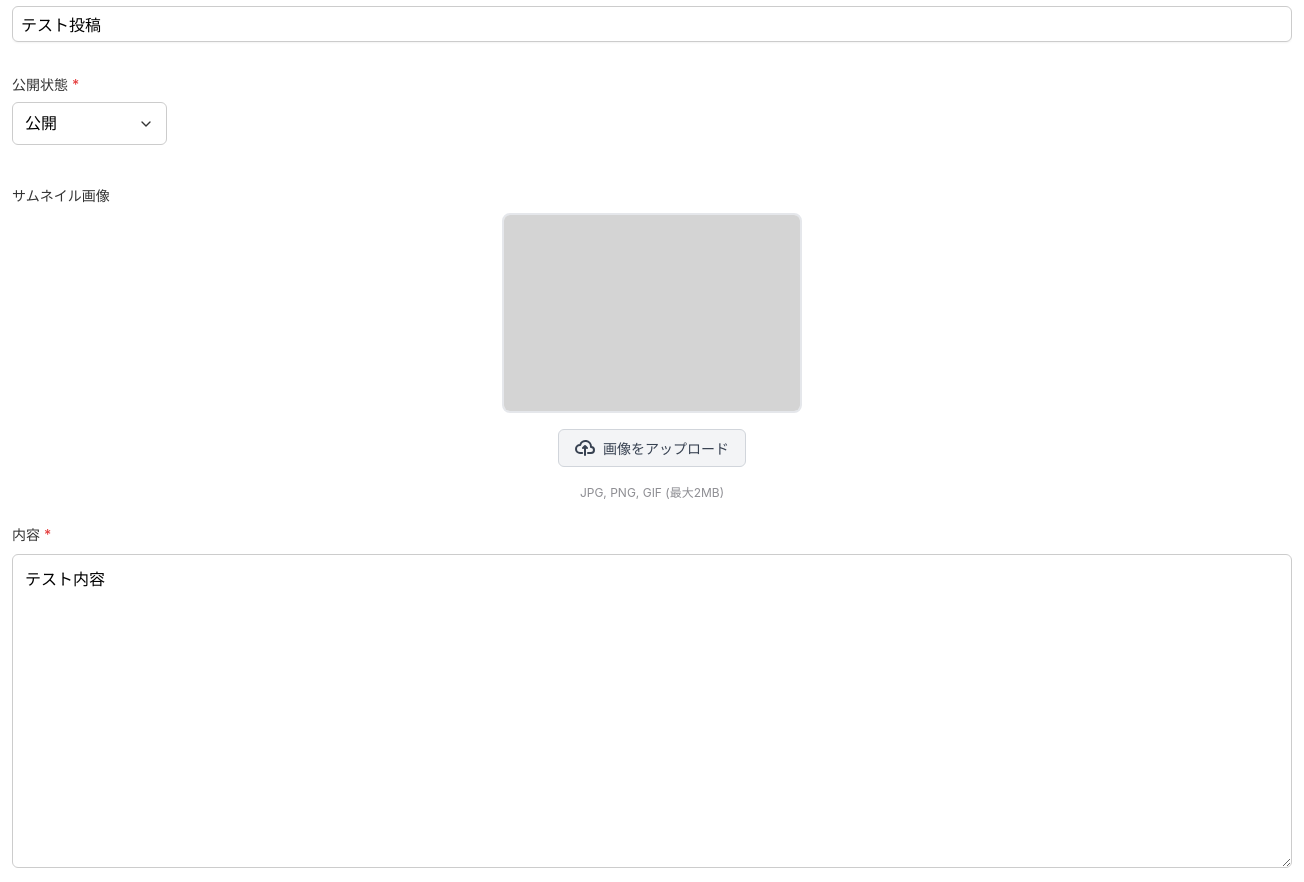
Test: PostForm › 内容が空の場合、エラーメッセージが表示されること
Clear the text box with test id "content-textarea" at [652, 711], box [12, 554, 1292, 868]
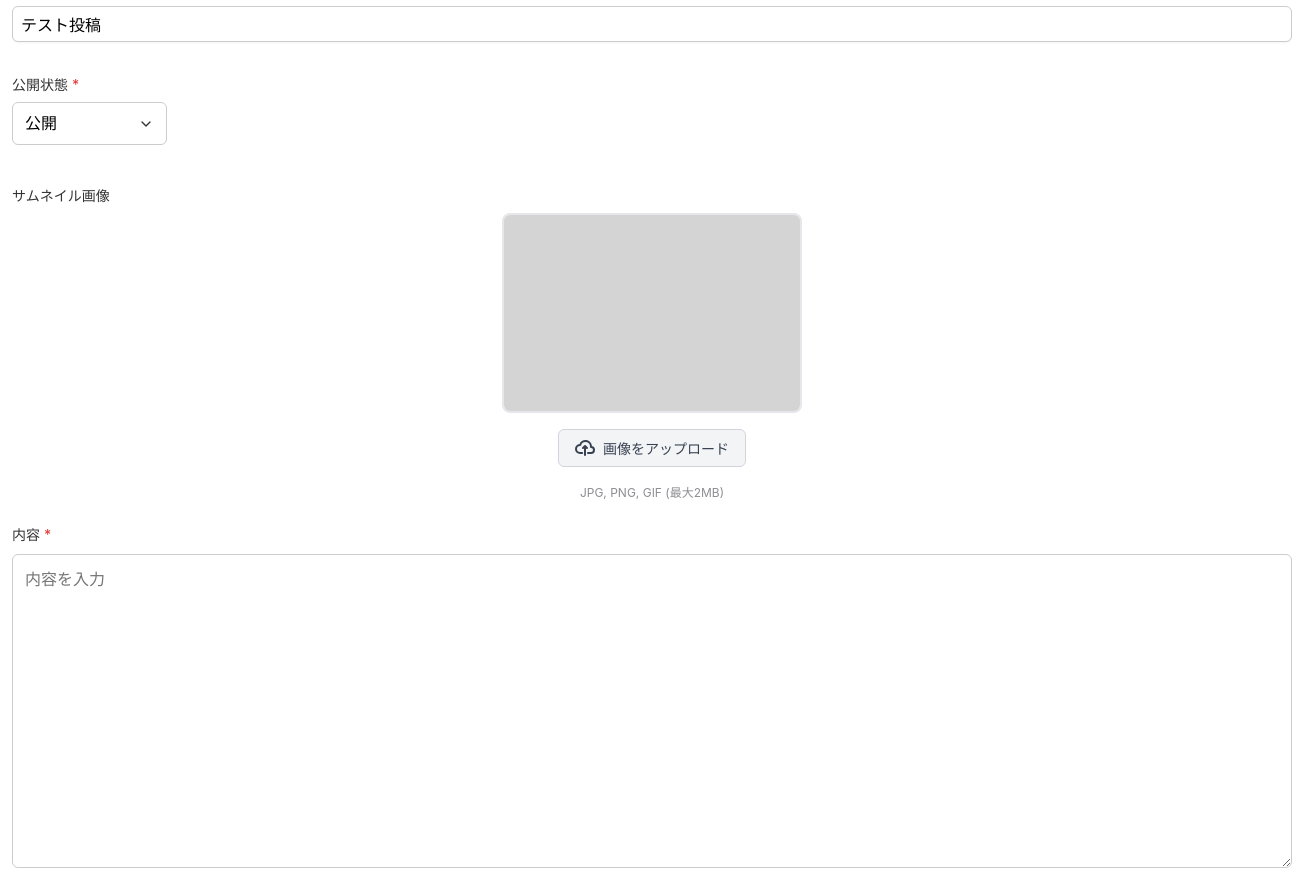
Leave the text box with test id "content-textarea", box [12, 554, 1292, 868]
(page scrolled)
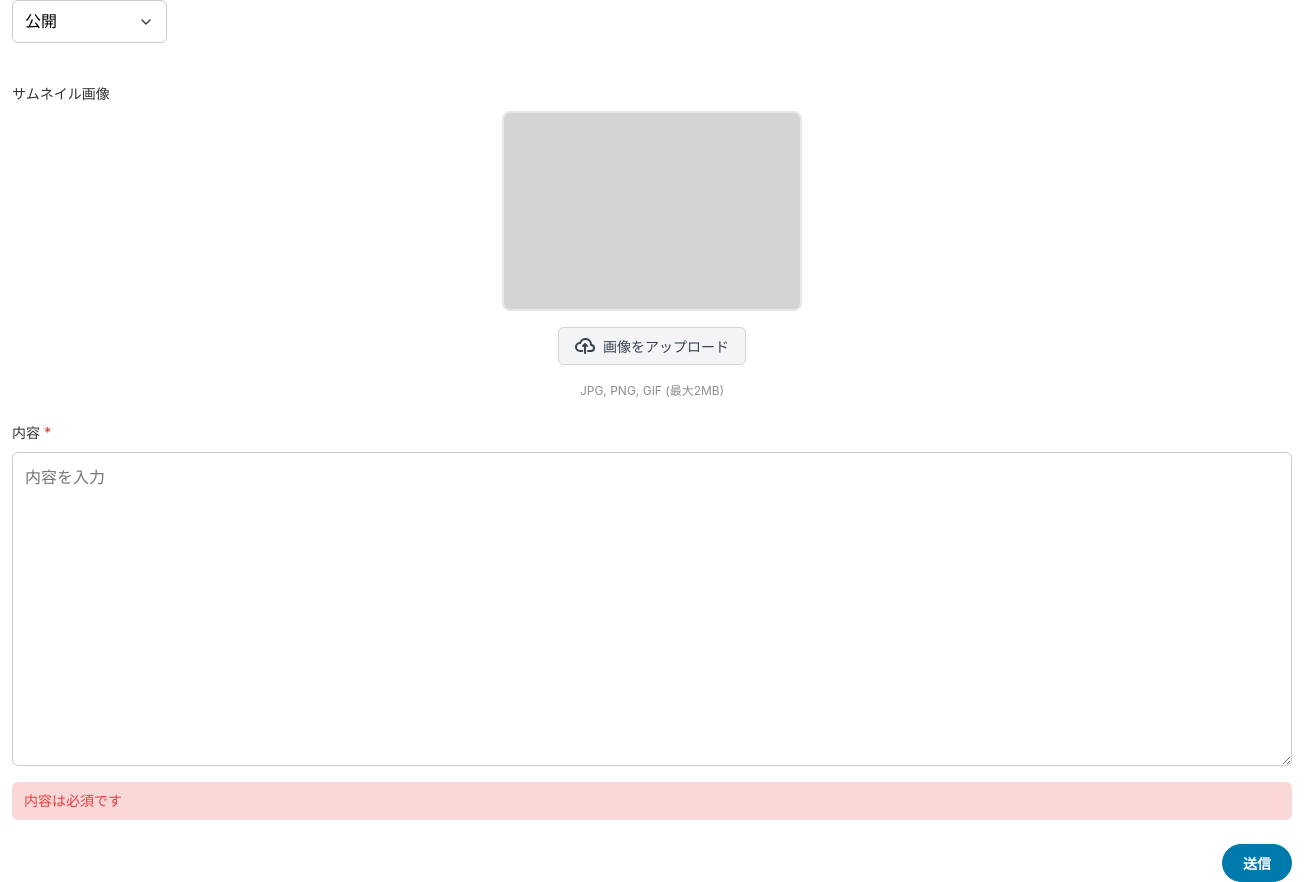
expect the text "内容は必須です" is shown: met, box [12, 782, 1292, 820]
